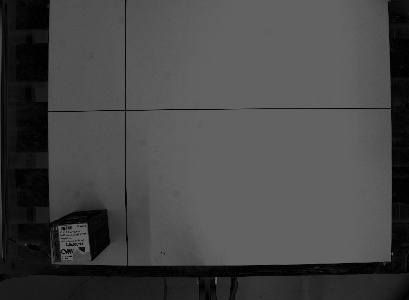b4: (48, 206, 111, 264)
